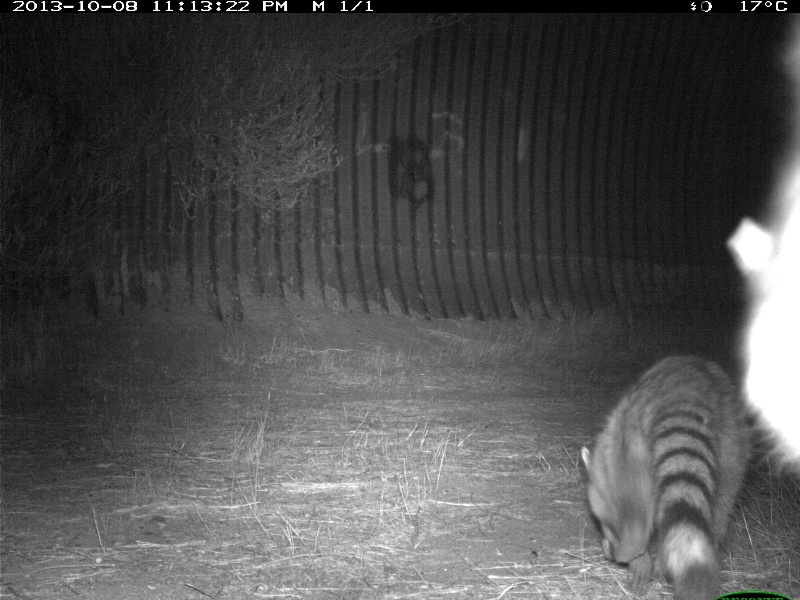raccoon: (578, 351, 754, 592)
